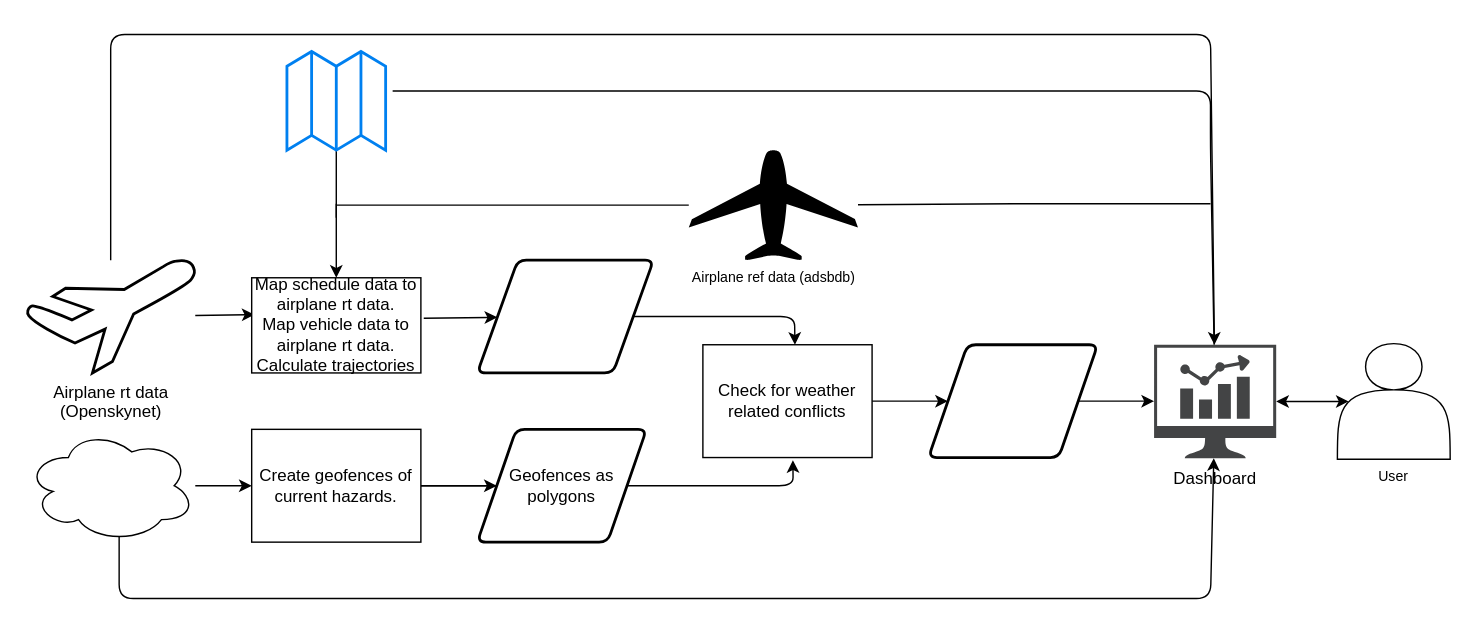
Some shapes in this 1475 by 635 pixel diagram are drawn without their labels. The box of each missing label's shape, as (x1, y1, x2, y2) in pixels:
Alerts: (926, 343, 1098, 458)
Flight route data (adsdb): (285, 49, 386, 151)
Trajectories as linestrings: (475, 258, 654, 374)
Weather hazards data (aviationweather): (25, 428, 195, 542)
